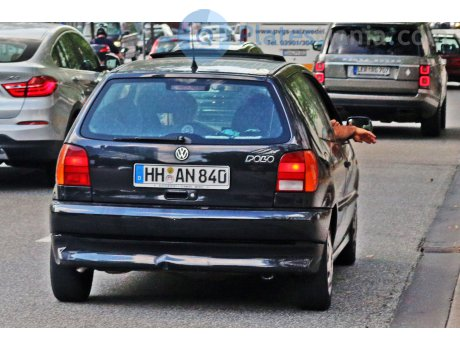License Plates: (147, 168, 227, 182)
